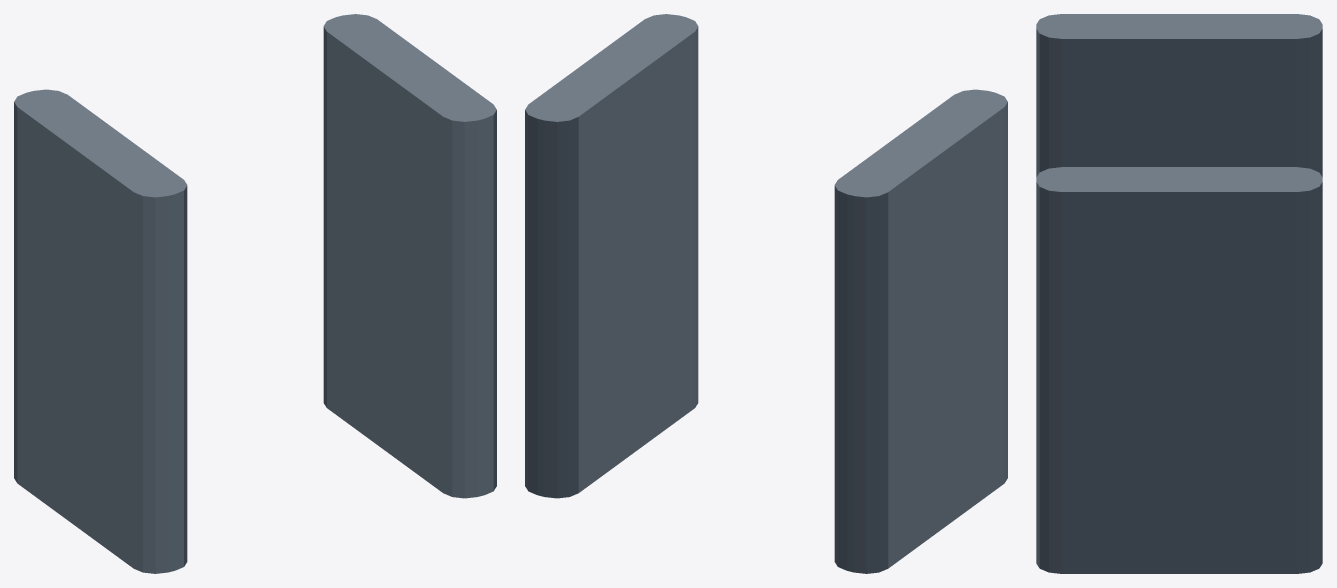
The model's file is Door_Jamb.gltf.
The picture shows the model from 3 angles, left to right: view 1: azimuth 30°, elevation 25°; view 2: azimuth 150°, elevation 25°; view 3: azimuth 270°, elevation 25°; orthographic projection.
Parts seen in each view (by area): view 1: Door_Jamb_baked; view 2: Door_Jamb_baked; view 3: Door_Jamb_baked.
Boxes of the visible parts, x1,y1,x2,y2 form: Door_Jamb_baked: (14,14,496,573); Door_Jamb_baked: (525,14,1007,573); Door_Jamb_baked: (1036,14,1322,573).
Bounding box in the file's own units: 1 × 1 × 0.68.
